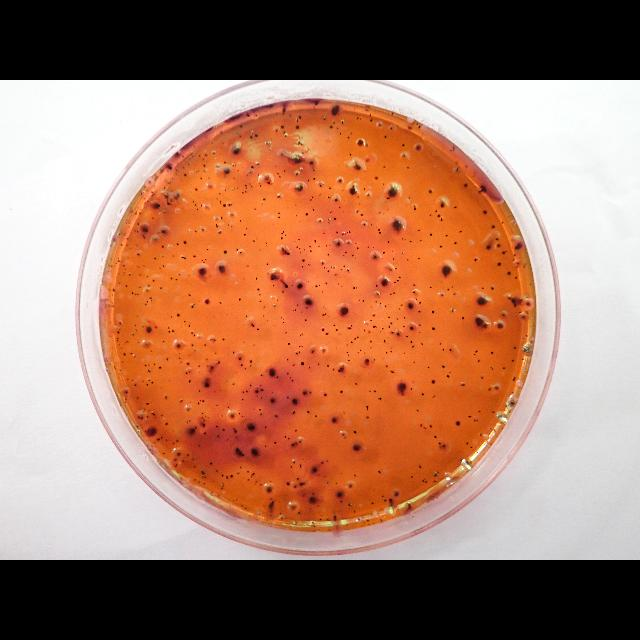colony: (395, 380, 409, 396), (391, 220, 403, 232), (330, 103, 340, 117), (441, 264, 452, 276), (146, 427, 158, 437), (388, 185, 398, 197), (476, 296, 488, 306), (338, 306, 349, 316), (185, 426, 195, 436), (474, 317, 484, 327), (478, 184, 488, 194), (292, 154, 302, 164), (292, 184, 304, 192), (232, 144, 240, 154), (140, 225, 150, 233), (352, 443, 362, 451), (304, 298, 314, 306), (198, 267, 206, 277), (218, 264, 226, 274), (251, 448, 259, 457), (268, 368, 276, 377), (235, 447, 242, 457), (152, 202, 160, 210), (336, 490, 344, 498), (310, 466, 318, 474), (247, 423, 255, 431), (496, 322, 504, 330), (514, 242, 522, 250), (414, 144, 422, 152), (354, 163, 362, 171), (381, 278, 389, 286), (356, 139, 364, 147), (223, 168, 231, 175), (166, 163, 174, 170), (350, 188, 358, 195), (146, 326, 152, 334), (143, 341, 151, 347), (266, 486, 272, 494), (292, 398, 298, 406), (522, 346, 530, 352), (407, 302, 415, 308), (310, 496, 316, 504), (296, 283, 304, 289), (270, 274, 278, 280), (203, 382, 210, 388), (498, 414, 504, 421), (174, 152, 180, 158), (166, 200, 172, 206), (161, 228, 167, 234), (455, 420, 461, 426), (494, 385, 500, 391), (364, 358, 370, 364), (331, 417, 337, 423), (486, 244, 492, 250), (377, 122, 383, 128), (372, 254, 378, 260), (175, 343, 181, 349), (208, 184, 214, 190), (263, 174, 269, 180), (309, 160, 315, 166), (314, 100, 320, 106), (394, 490, 398, 498), (365, 404, 369, 411), (510, 399, 514, 406), (216, 164, 220, 170), (173, 194, 177, 200), (164, 193, 168, 199), (182, 240, 188, 244), (176, 452, 182, 456), (268, 504, 274, 508), (291, 506, 297, 510), (430, 380, 436, 384), (270, 398, 274, 404), (229, 414, 235, 418), (202, 422, 206, 428), (482, 324, 488, 328), (496, 262, 502, 266), (483, 210, 487, 216), (440, 202, 444, 208), (299, 482, 305, 486), (238, 356, 242, 362), (321, 326, 325, 332), (204, 300, 210, 304), (204, 206, 210, 210), (365, 158, 371, 162), (322, 348, 326, 354), (304, 212, 310, 215), (280, 125, 284, 129), (295, 125, 299, 129), (296, 118, 300, 122), (298, 115, 302, 119), (282, 108, 286, 112), (239, 124, 243, 128), (203, 169, 207, 173), (177, 193, 181, 197), (148, 180, 152, 184), (154, 237, 158, 241), (112, 288, 116, 292), (149, 296, 153, 300), (146, 300, 150, 304), (122, 352, 126, 356), (133, 354, 137, 358), (151, 412, 155, 416), (156, 438, 160, 442), (348, 484, 352, 488), (326, 481, 330, 485), (389, 498, 393, 502), (418, 465, 422, 469), (442, 444, 446, 448), (354, 382, 358, 386), (339, 390, 343, 394), (314, 414, 318, 418), (186, 407, 190, 411), (186, 362, 190, 366), (274, 414, 278, 418), (302, 391, 306, 395), (323, 393, 327, 397), (332, 367, 336, 371), (300, 362, 304, 366), (410, 326, 414, 330), (431, 327, 435, 331), (512, 298, 516, 302), (513, 303, 517, 307), (526, 302, 530, 306), (507, 271, 511, 275), (491, 286, 495, 290), (512, 258, 516, 262), (497, 244, 501, 248), (495, 237, 499, 241), (491, 225, 495, 229), (464, 183, 468, 187), (456, 168, 460, 172), (408, 126, 412, 130), (374, 176, 378, 180), (428, 189, 432, 193), (412, 290, 416, 294), (441, 293, 445, 297), (474, 258, 478, 262), (406, 166, 410, 170), (490, 351, 494, 355), (286, 482, 290, 486), (298, 440, 302, 444), (251, 323, 255, 327), (304, 318, 308, 322), (325, 332, 329, 336), (314, 284, 318, 288), (284, 284, 288, 288), (257, 288, 261, 292), (190, 304, 194, 308), (176, 313, 180, 317), (201, 228, 205, 232), (178, 273, 182, 277), (223, 250, 227, 254), (230, 213, 234, 217), (218, 230, 222, 234), (214, 217, 218, 221), (222, 203, 226, 207), (267, 181, 271, 185), (266, 141, 270, 145), (280, 152, 284, 156), (429, 286, 433, 290), (452, 292, 456, 296), (336, 242, 340, 246), (311, 195, 315, 199), (295, 172, 299, 176), (300, 167, 304, 171), (312, 168, 316, 172), (329, 125, 333, 129), (332, 121, 336, 125), (338, 178, 342, 182), (334, 198, 338, 202), (488, 426, 492, 430), (505, 402, 509, 406), (274, 112, 278, 115), (247, 113, 250, 117), (255, 134, 258, 138), (200, 204, 203, 208), (150, 190, 154, 193), (162, 210, 165, 214), (136, 222, 140, 225), (125, 284, 128, 288), (124, 391, 128, 394), (140, 416, 144, 419), (230, 474, 233, 478), (292, 461, 296, 464), (378, 471, 382, 474), (424, 481, 428, 484), (411, 475, 414, 479), (491, 411, 495, 414), (460, 384, 466, 386), (446, 374, 449, 378), (390, 371, 394, 374), (306, 411, 310, 414), (286, 396, 290, 399), (150, 381, 154, 384), (308, 391, 312, 394), (396, 332, 399, 336), (448, 371, 452, 374), (356, 116, 359, 120), (414, 204, 416, 210), (459, 230, 463, 233), (475, 351, 479, 354), (232, 382, 235, 386), (215, 352, 218, 356), (232, 350, 235, 354), (347, 326, 351, 329), (256, 162, 260, 165), (332, 240, 336, 243), (286, 252, 290, 255), (366, 142, 368, 148), (177, 242, 180, 245), (237, 471, 240, 474), (481, 376, 484, 379), (195, 426, 198, 429), (192, 255, 195, 258), (356, 247, 359, 250), (251, 130, 253, 134), (250, 135, 252, 139), (224, 160, 226, 164), (199, 154, 201, 158), (194, 144, 196, 148), (182, 155, 184, 159), (176, 168, 178, 172), (184, 173, 186, 177), (196, 187, 198, 191), (208, 176, 210, 180), (146, 200, 150, 202), (138, 212, 142, 214), (120, 244, 124, 246), (118, 233, 120, 237), (126, 238, 130, 240), (124, 222, 128, 224), (154, 256, 156, 260), (162, 254, 164, 258), (184, 256, 186, 260), (162, 264, 164, 268), (122, 265, 126, 267), (128, 274, 132, 276), (122, 272, 126, 274), (138, 286, 142, 288), (152, 280, 156, 282), (148, 284, 150, 288), (144, 304, 148, 306), (160, 286, 162, 290), (118, 322, 122, 324), (132, 332, 134, 336), (154, 326, 158, 328), (138, 415, 140, 419), (136, 425, 140, 427), (149, 448, 151, 452), (174, 458, 176, 462), (226, 475, 228, 479), (248, 478, 250, 482), (270, 498, 274, 500), (258, 512, 262, 514), (294, 522, 296, 526), (314, 524, 316, 528), (334, 514, 336, 518), (328, 529, 332, 531), (296, 478, 300, 480), (384, 498, 386, 502), (460, 458, 462, 462), (466, 441, 468, 445), (468, 415, 472, 417), (422, 392, 424, 396), (386, 364, 388, 368), (382, 340, 386, 342), (374, 358, 376, 362), (378, 398, 382, 400), (260, 412, 262, 416), (255, 390, 259, 392), (260, 388, 264, 390), (221, 414, 223, 418), (180, 399, 182, 403), (188, 380, 192, 382), (198, 364, 200, 368), (158, 366, 162, 368), (148, 369, 150, 373), (144, 364, 148, 366), (148, 378, 150, 382), (166, 422, 168, 426), (217, 434, 219, 438), (216, 424, 218, 428), (354, 430, 356, 434), (327, 364, 329, 368), (317, 362, 319, 366), (288, 342, 290, 346), (286, 358, 290, 360), (449, 348, 451, 352), (442, 364, 444, 368), (502, 367, 506, 369), (462, 316, 464, 320), (508, 296, 510, 300), (518, 311, 522, 313), (515, 276, 517, 280), (401, 144, 405, 146), (401, 155, 405, 157), (384, 136, 388, 138), (390, 126, 392, 130), (370, 118, 372, 122), (391, 111, 393, 115), (382, 166, 386, 168), (441, 217, 443, 221), (434, 210, 438, 212), (428, 214, 432, 216), (382, 252, 386, 254), (407, 258, 409, 262), (394, 268, 398, 270), (398, 276, 402, 278), (394, 280, 396, 284), (376, 284, 378, 288), (412, 284, 416, 286), (418, 302, 422, 304), (418, 311, 422, 313), (432, 310, 434, 314), (452, 308, 454, 312), (454, 242, 458, 244), (416, 409, 418, 413), (430, 424, 432, 428), (294, 484, 296, 488), (302, 494, 304, 498), (312, 492, 314, 496), (316, 505, 320, 507), (308, 508, 312, 510), (265, 444, 267, 448), (274, 441, 276, 445), (292, 443, 294, 447), (218, 360, 220, 364), (207, 364, 209, 368), (193, 334, 195, 338), (249, 360, 253, 362), (253, 343, 255, 347), (256, 328, 260, 330), (245, 314, 247, 318), (299, 334, 301, 338), (301, 332, 303, 336), (281, 316, 283, 320), (274, 304, 276, 308), (295, 308, 297, 312), (306, 306, 308, 310), (322, 314, 326, 316), (336, 328, 338, 332), (332, 324, 336, 326), (351, 324, 353, 328), (374, 301, 378, 303), (353, 286, 355, 290), (321, 290, 323, 294), (282, 290, 284, 294), (302, 258, 304, 262), (258, 293, 262, 295), (258, 300, 262, 302), (256, 276, 258, 280), (218, 302, 222, 304), (170, 276, 172, 280), (266, 262, 268, 266), (236, 248, 238, 252), (225, 188, 227, 192), (262, 198, 266, 200), (278, 176, 282, 178), (443, 286, 445, 290), (378, 232, 382, 234), (342, 232, 344, 236), (347, 268, 349, 272), (282, 247, 284, 251), (280, 237, 284, 239), (318, 220, 322, 222), (313, 208, 315, 212), (277, 196, 281, 198), (310, 198, 312, 202), (307, 178, 309, 182), (312, 178, 316, 180), (298, 141, 300, 145), (301, 142, 303, 146), (324, 117, 326, 121), (341, 121, 343, 125), (337, 126, 339, 130), (339, 132, 341, 136), (350, 132, 352, 136), (328, 187, 332, 189), (360, 214, 364, 216), (356, 210, 360, 212), (480, 433, 482, 437), (508, 411, 512, 413), (105, 302, 107, 306), (117, 256, 119, 260), (110, 257, 112, 261), (210, 142, 213, 144), (202, 158, 205, 160), (202, 164, 205, 166), (164, 187, 166, 190), (168, 180, 170, 183), (137, 230, 139, 233), (125, 244, 128, 246), (180, 256, 183, 258), (118, 331, 120, 334), (137, 396, 139, 399), (175, 466, 178, 468), (202, 472, 205, 474), (221, 486, 223, 489), (272, 501, 274, 504), (245, 507, 248, 509), (371, 514, 374, 516), (340, 501, 342, 504), (413, 361, 415, 364), (426, 367, 429, 369), (390, 351, 392, 354), (370, 341, 372, 344), (202, 416, 204, 419), (187, 421, 189, 424), (165, 396, 168, 398), (160, 414, 163, 416), (340, 366, 342, 369), (299, 351, 301, 354), (351, 341, 354, 343), (410, 341, 412, 344), (391, 331, 394, 333), (514, 376, 516, 379), (514, 346, 516, 349), (465, 165, 467, 168), (382, 182, 384, 185), (386, 197, 389, 199), (408, 197, 410, 200), (438, 215, 440, 218), (387, 240, 389, 243), (402, 250, 404, 253), (446, 289, 449, 291), (446, 235, 448, 238), (424, 426, 426, 429), (211, 366, 213, 369), (190, 344, 193, 346), (168, 331, 170, 334), (276, 376, 278, 379), (195, 230, 198, 232), (175, 279, 178, 281), (246, 227, 248, 230), (221, 217, 223, 220), (228, 202, 230, 205), (230, 202, 232, 205), (245, 190, 247, 193), (245, 187, 247, 190), (260, 185, 262, 188), (250, 166, 253, 168), (274, 165, 276, 168), (349, 230, 351, 233), (336, 230, 338, 233), (346, 242, 349, 244), (326, 270, 329, 272), (319, 185, 321, 188), (353, 185, 355, 188), (366, 194, 369, 196), (368, 331, 370, 334), (502, 426, 504, 429), (110, 245, 112, 248), (276, 130, 278, 132), (285, 135, 287, 137), (284, 132, 286, 134), (289, 114, 291, 116), (282, 113, 284, 115), (256, 114, 258, 116), (239, 135, 241, 137), (220, 132, 222, 134), (213, 152, 215, 154), (232, 164, 234, 166), (237, 170, 239, 172), (205, 154, 207, 156), (206, 136, 208, 138), (222, 142, 224, 144), (236, 132, 238, 134), (189, 157, 191, 159), (188, 163, 190, 165), (183, 167, 185, 169), (200, 178, 202, 180), (198, 170, 200, 172), (192, 200, 194, 202), (195, 204, 197, 206), (196, 208, 198, 210), (153, 193, 155, 195), (151, 195, 153, 197), (141, 193, 143, 195), (135, 212, 137, 214), (152, 217, 154, 219), (144, 237, 146, 239), (136, 244, 138, 246), (128, 226, 130, 228), (134, 229, 136, 231), (124, 234, 126, 236), (162, 246, 164, 248), (172, 255, 174, 257), (159, 267, 161, 269), (137, 254, 139, 256), (118, 260, 120, 262), (111, 266, 113, 268), (107, 270, 109, 272), (115, 262, 117, 264), (119, 282, 121, 284), (112, 294, 114, 296), (132, 292, 134, 294), (134, 293, 136, 295), (137, 294, 139, 296), (139, 274, 141, 276), (146, 276, 148, 278), (146, 290, 148, 292), (134, 325, 136, 327), (142, 325, 144, 327), (138, 341, 140, 343), (117, 337, 119, 339), (116, 340, 118, 342), (119, 343, 121, 345), (130, 352, 132, 354), (122, 361, 124, 363), (120, 369, 122, 371), (115, 368, 117, 370), (113, 366, 115, 368), (112, 368, 114, 370), (127, 378, 129, 380), (132, 379, 134, 381), (134, 384, 136, 386), (125, 398, 127, 400), (146, 402, 148, 404), (144, 408, 146, 410), (143, 410, 145, 412), (147, 416, 149, 418), (144, 430, 146, 432), (138, 431, 140, 433), (161, 436, 163, 438), (166, 439, 168, 441), (147, 443, 149, 445), (146, 445, 148, 447), (151, 445, 153, 447), (163, 452, 165, 454), (187, 454, 189, 456), (182, 460, 184, 462), (176, 464, 178, 466), (177, 472, 179, 474), (194, 465, 196, 467), (192, 458, 194, 460), (201, 471, 203, 473), (202, 475, 204, 477), (204, 476, 206, 478), (203, 482, 205, 484), (198, 481, 200, 483), (194, 479, 196, 481), (213, 480, 215, 482), (211, 491, 213, 493), (222, 483, 224, 485), (222, 485, 224, 487), (221, 474, 223, 476), (216, 470, 218, 472), (240, 466, 242, 468), (247, 471, 249, 473), (253, 472, 255, 474), (251, 474, 253, 476), (250, 476, 252, 478), (255, 480, 257, 482), (260, 483, 262, 485), (270, 480, 272, 482), (279, 513, 281, 515), (281, 517, 283, 519), (267, 519, 269, 521), (248, 515, 250, 517), (298, 512, 300, 514), (290, 525, 292, 527), (281, 523, 283, 525), (312, 522, 314, 524), (311, 525, 313, 527), (320, 518, 322, 520), (327, 519, 329, 521), (333, 512, 335, 514), (346, 524, 348, 526), (353, 510, 355, 512), (358, 518, 360, 520), (362, 516, 364, 518), (367, 519, 369, 521), (368, 523, 370, 525), (361, 525, 363, 527), (380, 519, 382, 521), (348, 504, 350, 506), (354, 474, 356, 476), (335, 482, 337, 484), (324, 476, 326, 478), (299, 464, 301, 466), (299, 466, 301, 468), (290, 466, 292, 468), (304, 461, 306, 463), (321, 462, 323, 464), (382, 495, 384, 497), (372, 502, 374, 504), (397, 508, 399, 510), (422, 480, 424, 482), (434, 480, 436, 482), (432, 481, 434, 483), (434, 474, 436, 476), (436, 472, 438, 474), (470, 461, 472, 463), (470, 446, 472, 448), (438, 442, 440, 444), (434, 436, 436, 438), (474, 419, 476, 421), (477, 419, 479, 421), (478, 410, 480, 412), (488, 388, 490, 390), (434, 395, 436, 397), (432, 396, 434, 398), (410, 388, 412, 390), (401, 380, 403, 382), (404, 352, 406, 354), (386, 352, 388, 354), (390, 347, 392, 349), (370, 347, 372, 349), (360, 349, 362, 351), (369, 390, 371, 392), (374, 390, 376, 392), (366, 416, 368, 418), (343, 412, 345, 414), (294, 411, 296, 413), (292, 412, 294, 414), (272, 392, 274, 394), (260, 397, 262, 399), (259, 408, 261, 410), (256, 395, 258, 397), (259, 385, 261, 387), (250, 384, 252, 386), (246, 390, 248, 392), (242, 391, 244, 393), (242, 398, 244, 400), (239, 413, 241, 415), (250, 419, 252, 421), (227, 406, 229, 408), (216, 404, 218, 406), (205, 416, 207, 418), (202, 412, 204, 414), (198, 402, 200, 404), (200, 400, 202, 402), (202, 400, 204, 402), (203, 419, 205, 421), (189, 420, 191, 422), (199, 390, 201, 392), (186, 372, 188, 374), (179, 357, 181, 359), (180, 361, 182, 363), (166, 358, 168, 360), (154, 363, 156, 365), (146, 384, 148, 386), (204, 432, 206, 434), (176, 440, 178, 442), (173, 442, 175, 444), (198, 445, 200, 447), (210, 462, 212, 464), (242, 454, 244, 456), (227, 439, 229, 441), (223, 429, 225, 431), (234, 430, 236, 432), (233, 428, 235, 430), (235, 436, 237, 438), (265, 426, 267, 428), (342, 434, 344, 436), (344, 437, 346, 439), (346, 351, 348, 353), (348, 354, 350, 356), (348, 359, 350, 361), (338, 370, 340, 372), (312, 350, 314, 352), (301, 346, 303, 348), (298, 345, 300, 347), (296, 352, 298, 354), (308, 366, 310, 368), (293, 364, 295, 366), (287, 373, 289, 375), (346, 344, 348, 346), (354, 338, 356, 340), (357, 336, 359, 338), (364, 352, 366, 354), (358, 351, 360, 353), (381, 328, 383, 330), (364, 329, 366, 331), (373, 326, 375, 328), (375, 326, 377, 328), (388, 326, 390, 328), (390, 322, 392, 324), (388, 316, 390, 318), (373, 314, 375, 316), (396, 318, 398, 320), (403, 317, 405, 319), (403, 325, 405, 327), (419, 324, 421, 326), (406, 336, 408, 338), (412, 346, 414, 348), (421, 343, 423, 345), (419, 332, 421, 334), (439, 343, 441, 345), (442, 349, 444, 351), (490, 366, 492, 368), (478, 360, 480, 362), (512, 360, 514, 362), (513, 379, 515, 381), (526, 335, 528, 337), (530, 341, 532, 343), (502, 314, 504, 316), (522, 316, 524, 318), (517, 262, 519, 264), (502, 252, 504, 254), (505, 251, 507, 253), (514, 254, 516, 256), (525, 263, 527, 265), (523, 266, 525, 268), (523, 264, 525, 266), (516, 266, 518, 268), (501, 222, 503, 224), (452, 146, 454, 148), (453, 148, 455, 150), (369, 114, 371, 116), (360, 118, 362, 120), (419, 126, 421, 128), (416, 123, 418, 125), (350, 154, 352, 156), (364, 170, 366, 172), (454, 206, 456, 208), (394, 228, 396, 230), (402, 238, 404, 240), (404, 239, 406, 241), (410, 240, 412, 242), (418, 229, 420, 231), (419, 240, 421, 242), (430, 234, 432, 236), (367, 246, 369, 248), (392, 258, 394, 260), (391, 250, 393, 252), (418, 257, 420, 259), (390, 269, 392, 271), (397, 280, 399, 282), (415, 298, 417, 300), (393, 292, 395, 294), (390, 293, 392, 295), (400, 304, 402, 306), (399, 308, 401, 310), (385, 305, 387, 307), (482, 287, 484, 289), (527, 312, 529, 314), (515, 312, 517, 314), (440, 246, 442, 248), (474, 354, 476, 356), (420, 424, 422, 426), (304, 507, 306, 509), (263, 505, 265, 507), (241, 505, 243, 507), (236, 499, 238, 501), (232, 499, 234, 501), (229, 440, 231, 442), (284, 436, 286, 438), (295, 430, 297, 432), (288, 438, 290, 440), (220, 389, 222, 391), (214, 391, 216, 393), (216, 363, 218, 365), (189, 371, 191, 373), (206, 358, 208, 360), (178, 352, 180, 354), (204, 344, 206, 346), (214, 339, 216, 341), (223, 338, 225, 340), (172, 330, 174, 332), (168, 327, 170, 329), (163, 341, 165, 343), (188, 325, 190, 327), (184, 321, 186, 323), (191, 332, 193, 334), (150, 350, 152, 352), (194, 350, 196, 352), (241, 364, 243, 366), (250, 364, 252, 366), (244, 368, 246, 370), (261, 374, 263, 376), (290, 376, 292, 378), (291, 379, 293, 381), (285, 332, 287, 334), (310, 322, 312, 324), (282, 321, 284, 323), (282, 318, 284, 320), (262, 315, 264, 317), (263, 306, 265, 308), (292, 310, 294, 312), (297, 304, 299, 306), (324, 313, 326, 315), (362, 300, 364, 302), (379, 303, 381, 305), (377, 293, 379, 295), (357, 286, 358, 290), (341, 285, 343, 287), (338, 283, 340, 285), (325, 282, 327, 284), (319, 284, 321, 286), (292, 285, 294, 287), (294, 273, 296, 275), (302, 266, 304, 268), (316, 276, 318, 278), (272, 285, 274, 287), (239, 298, 241, 300), (193, 303, 195, 305), (188, 294, 190, 296), (170, 316, 172, 318), (124, 268, 126, 270), (158, 232, 160, 234), (206, 248, 208, 250), (201, 259, 203, 261), (205, 259, 207, 261), (203, 261, 205, 263), (188, 275, 190, 277), (247, 265, 249, 267), (240, 252, 242, 254), (253, 240, 255, 242), (265, 242, 267, 244), (266, 245, 268, 247), (244, 234, 246, 236), (231, 225, 233, 227), (240, 220, 242, 222), (227, 224, 229, 226), (216, 224, 218, 226), (216, 226, 218, 228), (220, 201, 222, 203), (219, 202, 221, 204), (216, 197, 218, 199), (219, 192, 221, 194), (231, 189, 233, 191), (233, 188, 235, 190), (237, 187, 239, 189), (242, 192, 244, 194), (245, 184, 247, 186), (249, 183, 251, 185), (261, 202, 263, 204), (257, 174, 259, 176), (249, 171, 251, 173), (247, 174, 249, 176), (277, 173, 279, 175), (250, 149, 252, 151), (282, 165, 284, 167), (272, 158, 274, 160), (270, 157, 272, 159), (302, 152, 304, 154), (307, 148, 309, 150), (441, 280, 443, 282), (378, 229, 380, 231), (365, 220, 367, 222), (363, 224, 365, 226), (376, 226, 378, 228), (347, 231, 349, 233), (345, 233, 347, 235), (355, 242, 357, 244), (352, 255, 354, 257), (345, 252, 347, 254), (343, 255, 345, 257), (343, 265, 345, 267), (340, 268, 342, 270), (335, 274, 337, 276), (323, 267, 325, 269), (322, 262, 324, 264), (327, 254, 329, 256), (354, 257, 356, 259), (333, 267, 335, 269), (331, 266, 333, 268), (326, 267, 328, 269), (282, 253, 284, 255), (296, 246, 298, 248), (299, 248, 301, 250), (300, 251, 302, 253), (304, 249, 306, 251), (310, 250, 312, 252), (309, 246, 311, 248), (314, 240, 316, 242), (318, 245, 320, 247), (298, 239, 300, 241), (294, 240, 296, 242), (284, 234, 286, 236), (283, 231, 285, 233), (281, 232, 283, 234), (323, 232, 325, 234), (330, 239, 332, 241), (328, 222, 330, 224), (334, 218, 336, 220), (328, 218, 330, 220), (330, 211, 332, 213), (278, 212, 280, 214), (278, 217, 280, 219), (254, 208, 256, 210), (348, 136, 350, 138), (357, 196, 359, 198), (342, 190, 344, 192), (339, 206, 341, 208), (319, 194, 321, 196), (327, 196, 329, 198), (329, 196, 331, 198), (359, 203, 361, 205), (379, 212, 381, 214), (387, 209, 389, 211), (343, 210, 345, 212), (343, 200, 345, 202), (324, 307, 326, 309), (322, 306, 324, 308), (301, 311, 303, 313), (327, 315, 329, 317), (354, 313, 356, 315), (370, 306, 372, 308), (335, 348, 337, 350), (512, 391, 514, 393), (504, 409, 506, 411), (477, 452, 479, 454), (484, 443, 486, 445), (488, 446, 490, 448), (483, 453, 485, 455), (172, 430, 174, 432), (126, 395, 128, 397), (117, 394, 119, 396), (148, 364, 150, 366), (180, 326, 182, 328), (184, 324, 186, 326), (189, 323, 191, 325), (108, 304, 110, 306), (111, 302, 113, 304), (144, 186, 146, 188), (160, 170, 162, 172), (236, 164, 237, 166), (125, 342, 126, 344), (121, 347, 122, 349), (302, 458, 304, 459), (327, 460, 328, 462), (424, 478, 426, 479), (254, 408, 256, 409), (142, 381, 144, 382), (381, 331, 382, 333), (522, 358, 524, 359), (378, 296, 379, 298), (124, 274, 125, 276), (233, 177, 234, 179), (253, 146, 254, 148), (371, 224, 372, 226), (348, 271, 349, 273), (341, 276, 342, 278), (327, 245, 328, 247), (491, 443, 492, 445), (242, 166, 242, 168), (196, 172, 197, 172), (144, 235, 144, 237), (135, 330, 137, 330), (128, 341, 128, 343), (154, 442, 154, 443), (320, 516, 322, 516), (319, 474, 321, 474), (410, 364, 410, 366), (242, 402, 242, 404), (242, 416, 242, 416), (208, 417, 208, 419), (370, 320, 372, 320), (492, 368, 492, 370), (374, 247, 374, 249), (382, 258, 382, 258), (452, 286, 452, 288), (290, 423, 290, 425), (358, 300, 360, 300), (310, 264, 310, 266), (308, 280, 308, 282), (308, 263, 308, 265), (278, 299, 278, 301), (207, 298, 209, 298), (144, 264, 144, 268), (128, 256, 128, 258), (130, 247, 130, 249), (252, 186, 252, 188), (284, 170, 284, 172), (290, 248, 290, 250), (330, 244, 330, 246), (300, 221, 300, 223), (296, 214, 296, 216), (364, 188, 364, 190), (384, 213, 384, 215), (386, 201, 386, 203), (148, 190, 148, 192), (148, 196, 148, 198), (144, 198, 146, 198)
